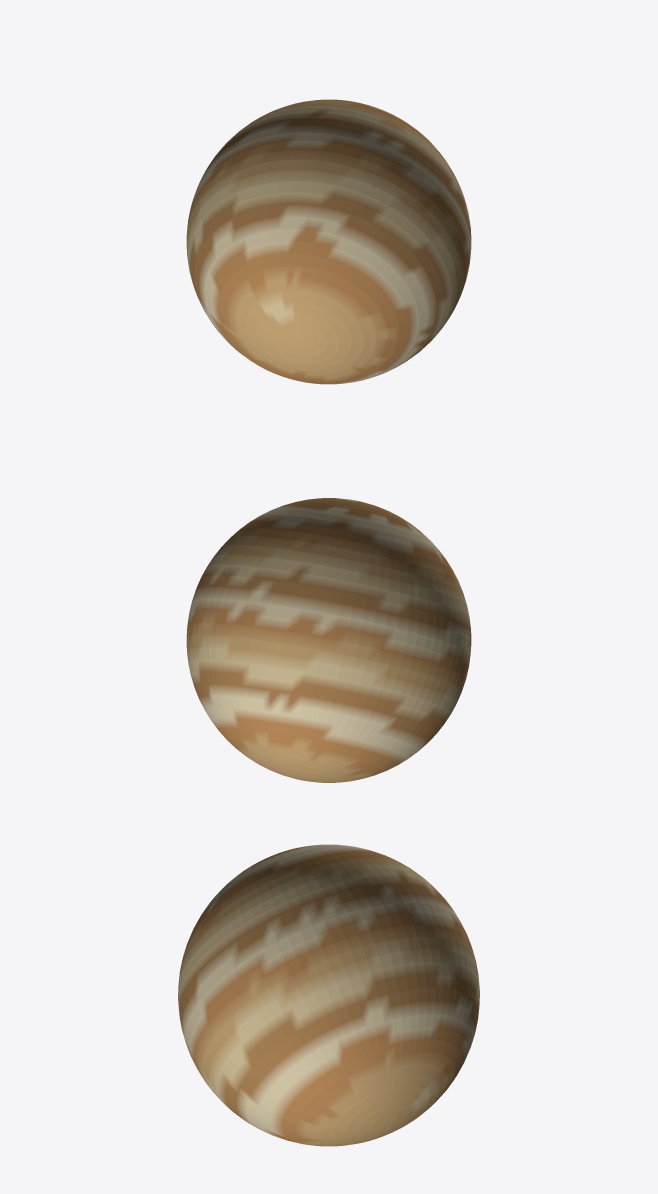
Rendered from saturn.glb.
3 views of the same model, one above another, from view 1: azimuth 30°, elevation 25°; view 2: azimuth 150°, elevation 25°; view 3: azimuth 270°, elevation 25° (orthographic). The views are drawn at different scales.
Size of the model in its own units: 4.5 by 2 by 4.17.
